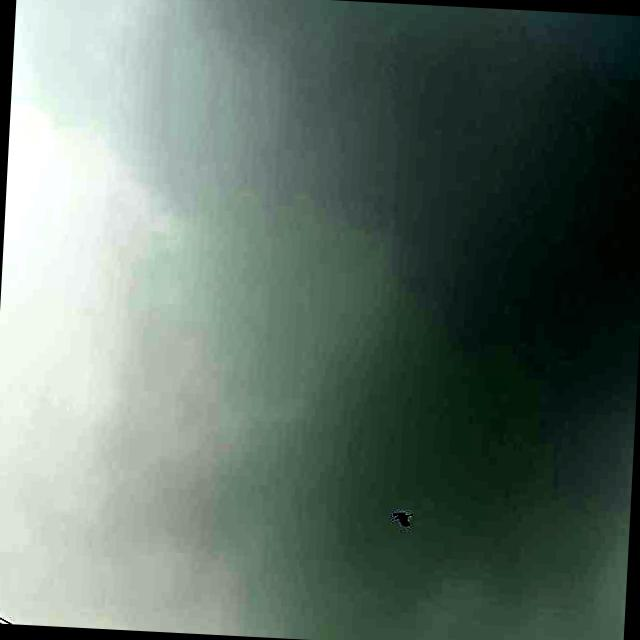bird: (387, 504, 416, 534)
